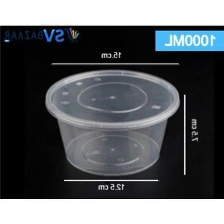plastic_box: (41, 63, 185, 180)
